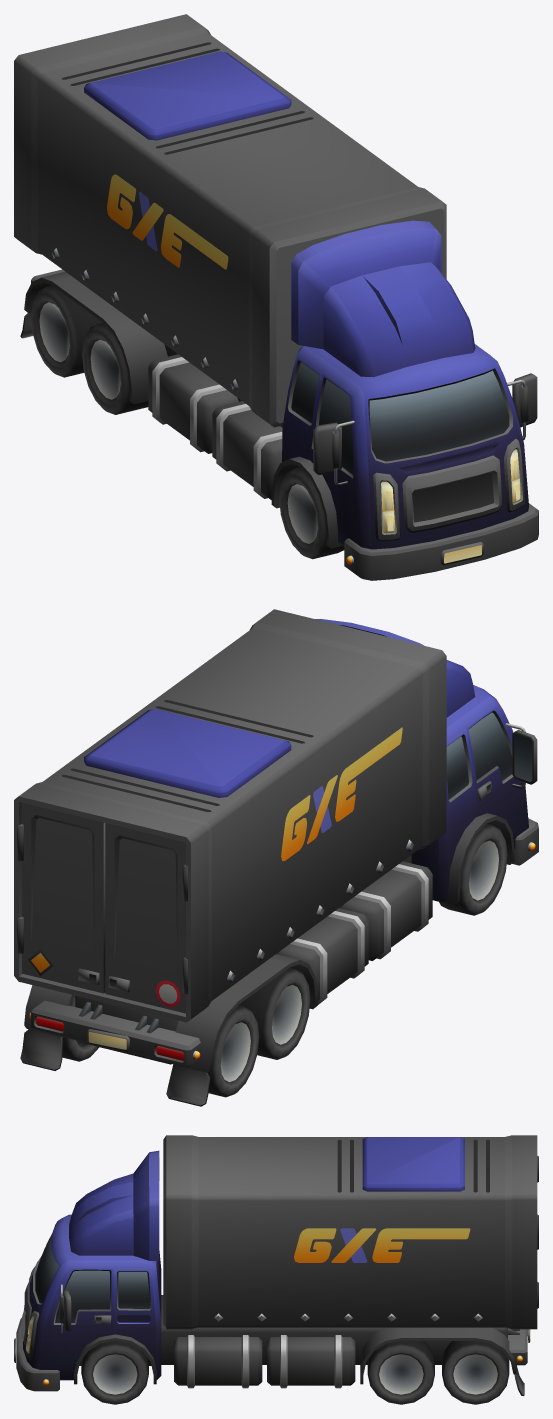
The model's file is Car_16B.fbx.
3 views of the same model, one above another, from view 1: azimuth 30°, elevation 25°; view 2: azimuth 150°, elevation 25°; view 3: azimuth 270°, elevation 25° (orthographic). The views are drawn at different scales.
Visible parts, largest first — view 1: Car_16B, Wheel_16B_R.R, Livery_16B, Wheel_16B_M.R, Wheel_16B_F.R; view 2: Car_16B, Door_16B_R.L, Door_16B_R.R, Wheel_16B_M.R, Livery_16B, Wheel_16B_F.R, Wheel_16B_R.R, Wheel_16B_R.L; view 3: Car_16B, Livery_16B, Wheel_16B_R.L, Wheel_16b_M.L, Wheel_16B_F.L.
Boxes of the visible parts, x1=… form: Car_16B: x1=14, y1=14, x2=538, y2=580; Wheel_16B_R.R: x1=31, y1=285, x2=102, y2=377; Livery_16B: x1=107, y1=174, x2=228, y2=269; Wheel_16B_M.R: x1=82, y1=323, x2=148, y2=414; Wheel_16B_F.R: x1=279, y1=467, x2=344, y2=559; Car_16B: x1=14, y1=609, x2=538, y2=1106; Door_16B_R.L: x1=17, y1=802, x2=105, y2=993; Door_16B_R.R: x1=105, y1=823, x2=187, y2=1013; Wheel_16B_M.R: x1=238, y1=968, x2=310, y2=1059; Livery_16B: x1=281, y1=727, x2=402, y2=861; Wheel_16B_F.R: x1=439, y1=823, x2=507, y2=915; Wheel_16B_R.R: x1=207, y1=1005, x2=259, y2=1097; Wheel_16B_R.L: x1=62, y1=995, x2=99, y2=1061; Car_16B: x1=14, y1=1135, x2=537, y2=1395; Livery_16B: x1=294, y1=1228, x2=470, y2=1262; Wheel_16B_R.L: x1=442, y1=1341, x2=509, y2=1404; Wheel_16b_M.L: x1=367, y1=1341, x2=434, y2=1404; Wheel_16B_F.L: x1=81, y1=1341, x2=148, y2=1404.
Bounding box in the file's own units: 301 × 380 × 849.
